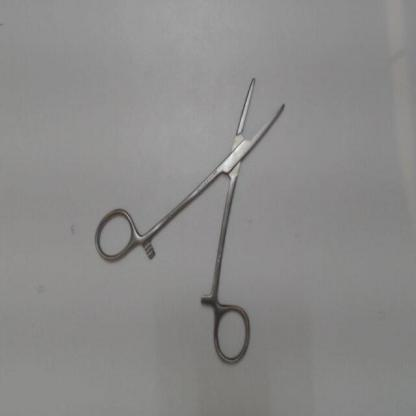Mayo Needle Holder: (89, 65, 295, 370)
